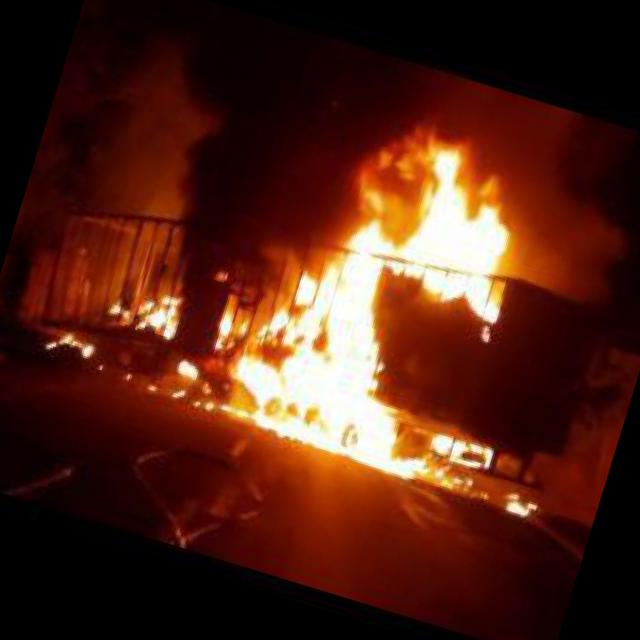fire: (168, 78, 552, 482), (106, 280, 183, 342), (42, 324, 96, 364), (501, 492, 540, 518)
smoke: (129, 2, 321, 318)
